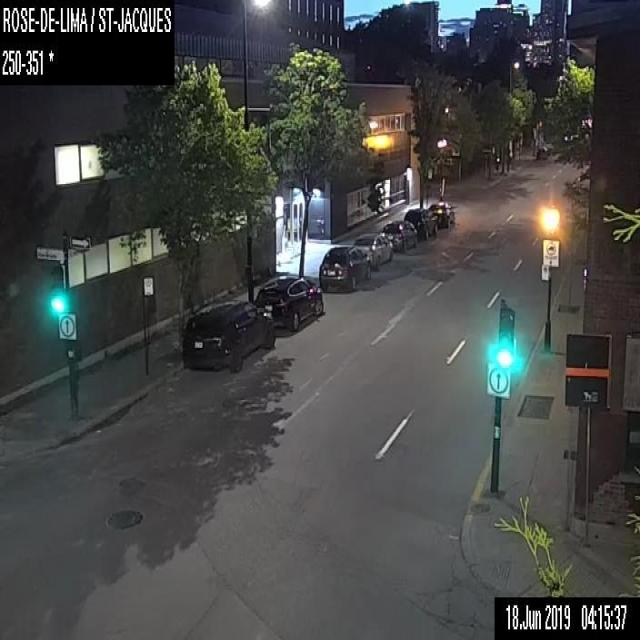vehicle: (181, 298, 276, 369), (253, 275, 325, 330), (318, 245, 371, 292), (352, 232, 394, 268), (382, 219, 417, 254), (405, 208, 438, 238), (427, 199, 456, 227), (534, 143, 551, 160)
